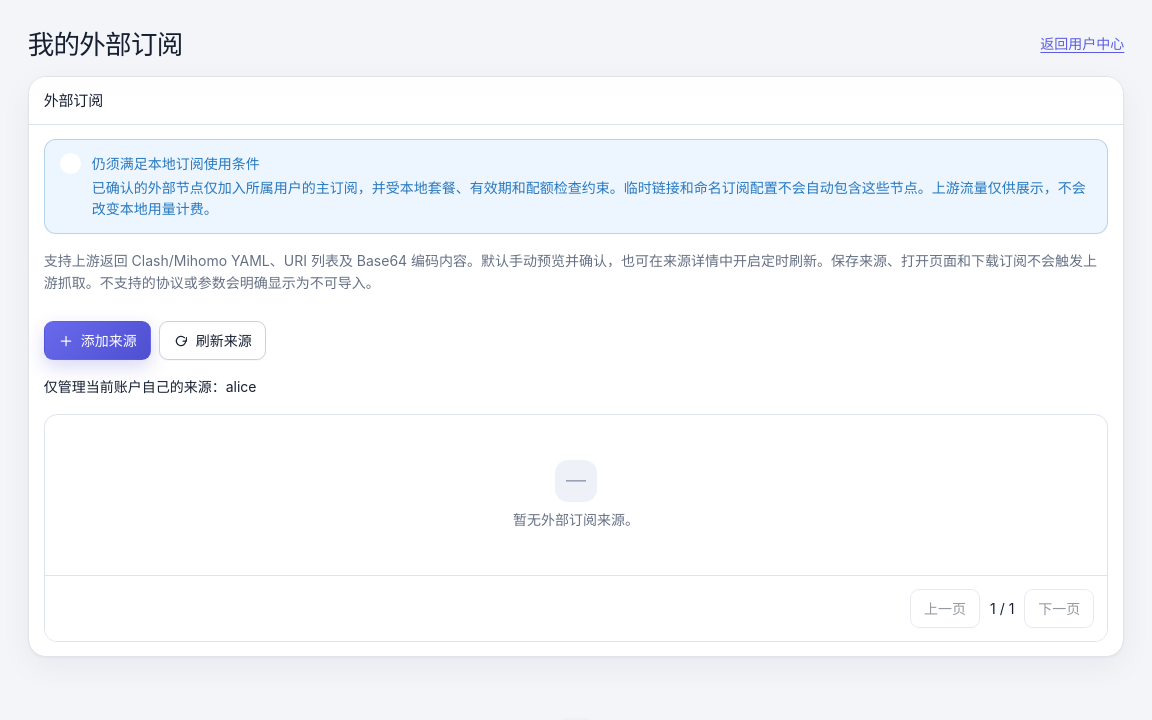
Test case: account external source workspace › destroys secrets and discards late old-account replies when the session changes
Click the button named "添加外部订阅来源" at {"x": 97, "y": 341}, box [44, 321, 151, 360]
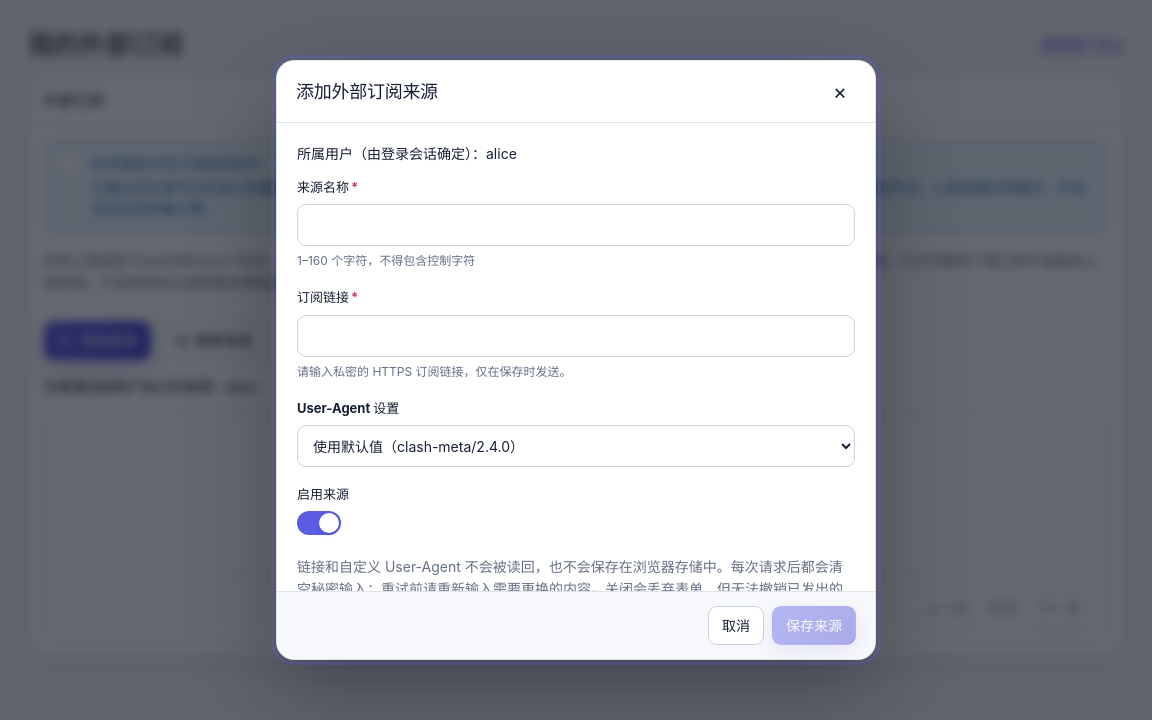
Type "我的来源" into the field named "外部订阅来源名称" at {"x": 576, "y": 225}, box [297, 204, 855, 246]
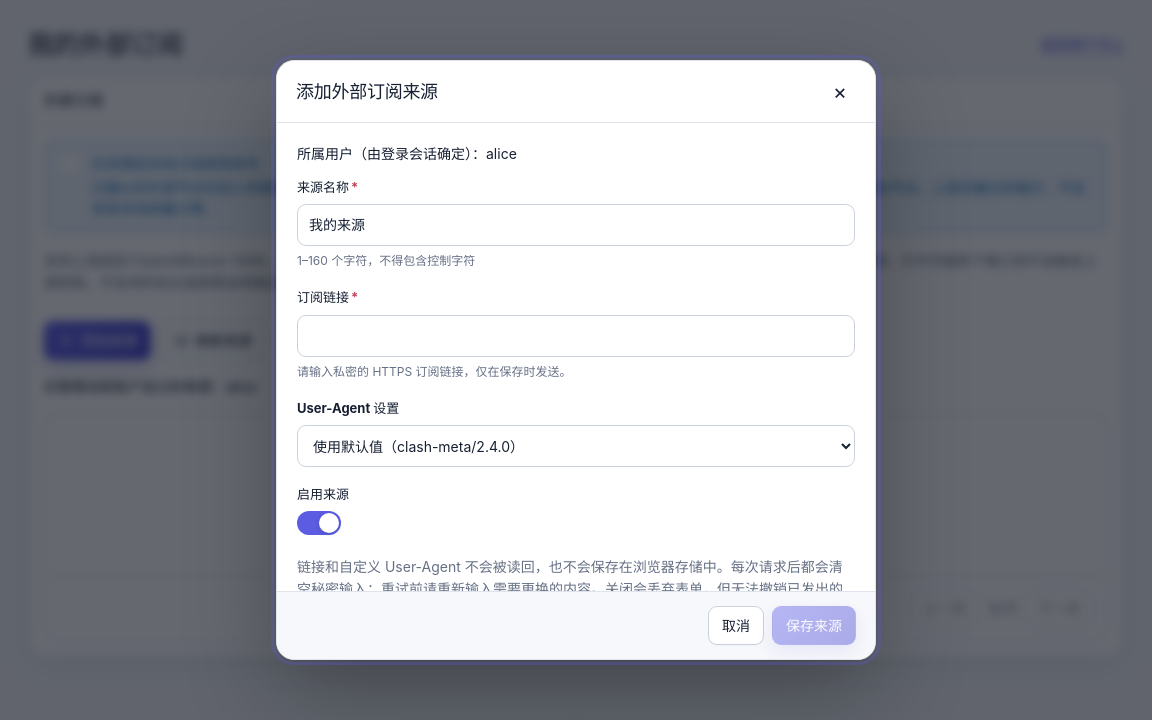
Type "https://provider.example/private?token=NO-ECHO" into the password field named "外部订阅链接" at {"x": 576, "y": 336}, box [297, 315, 855, 357]
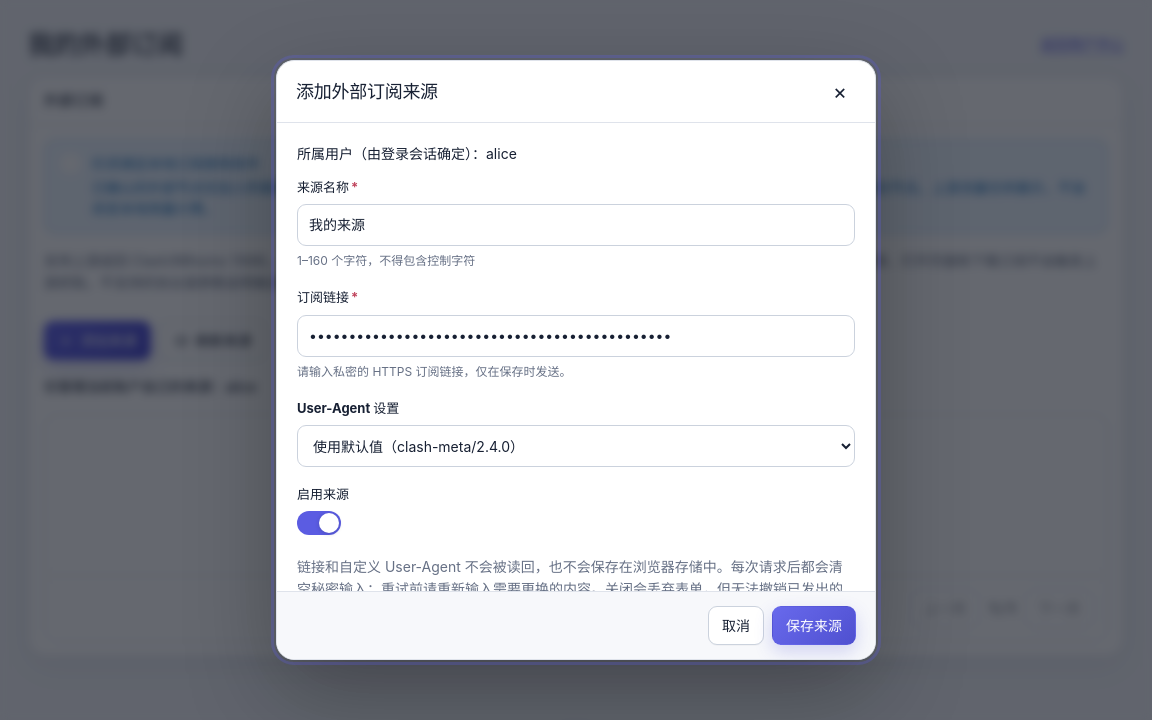
Click the button named "保存外部订阅来源" at {"x": 814, "y": 626}, box [772, 606, 856, 645]
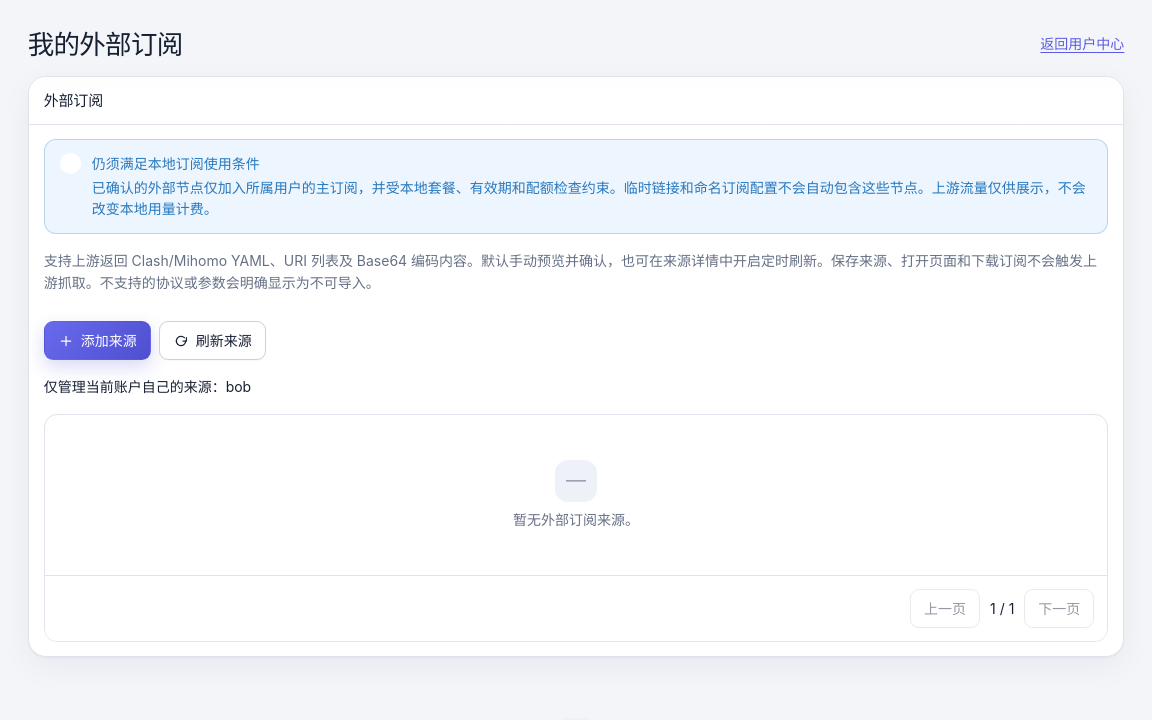
Expected: the text "我的来源" is not shown
Expected: the password field labelled "外部订阅链接" is gone
Expected: the text "仅管理当前账户自己的来源：bob" is shown, [44, 378, 251, 395]
